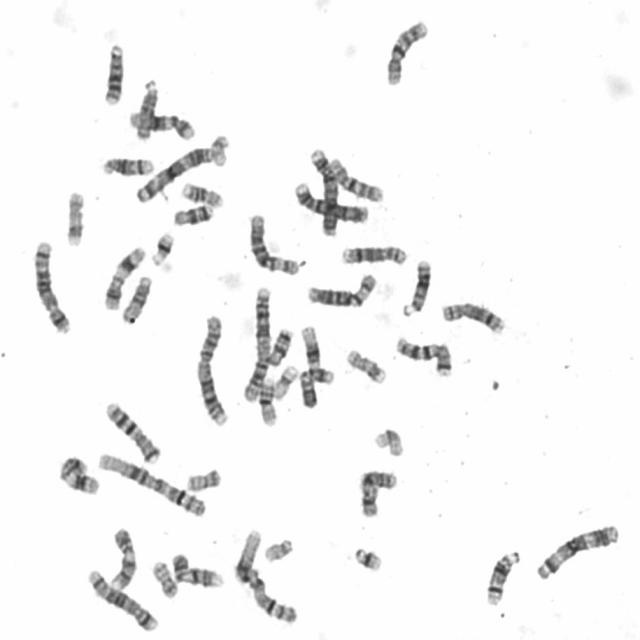A1: (97, 449, 208, 518), (234, 528, 299, 625)
A2: (194, 313, 229, 428), (243, 285, 273, 404)
A3: (535, 524, 622, 581), (135, 147, 213, 204)
B4: (294, 183, 368, 224), (310, 149, 338, 237)
B5: (88, 569, 160, 633), (34, 240, 72, 336)
C10: (383, 19, 429, 88), (330, 156, 386, 204)
C11: (104, 244, 146, 310), (55, 454, 101, 496)
C12: (301, 323, 334, 384), (130, 110, 195, 140)
C6: (248, 214, 301, 276), (308, 272, 378, 308)
C7: (103, 398, 162, 465), (397, 335, 454, 377)
C8: (443, 299, 506, 335), (342, 243, 408, 264)
C9: (172, 552, 226, 590), (110, 527, 138, 591)
D13: (402, 258, 434, 318), (104, 42, 125, 105)
D14: (486, 550, 522, 605), (102, 156, 154, 178)
D15: (120, 274, 156, 325), (136, 78, 158, 140)
E16: (182, 182, 224, 208), (258, 380, 276, 426)
E17: (346, 350, 388, 386), (65, 189, 85, 249)
E18: (268, 329, 294, 366), (174, 206, 214, 227)
F19: (370, 425, 406, 457), (274, 364, 298, 399)
F20: (153, 560, 179, 599), (186, 467, 225, 492)
G21: (149, 231, 176, 268), (353, 548, 382, 574)
G22: (264, 538, 294, 563), (211, 134, 231, 166)
X: (355, 467, 399, 521)
Y: (299, 371, 319, 409)
